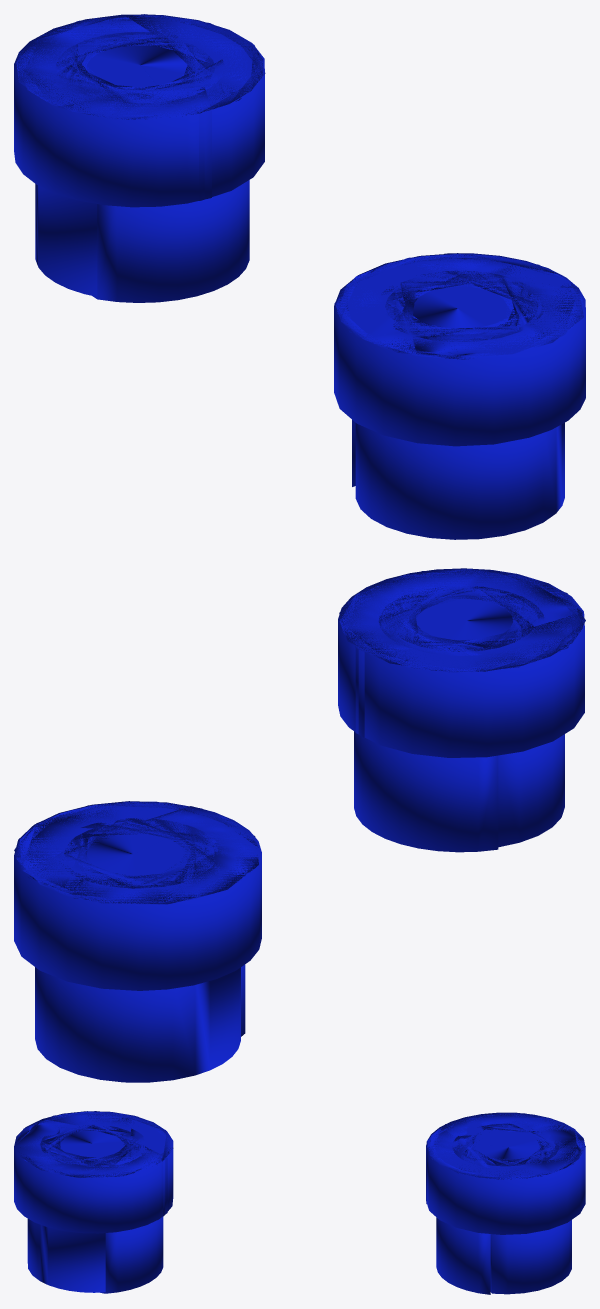
Rendered from tuyeau_element_000056.obj.
The picture shows the model from 3 angles, top to bottom: view 1: azimuth 30°, elevation 25°; view 2: azimuth 150°, elevation 25°; view 3: azimuth 270°, elevation 25°; orthographic projection. The views are drawn at different scales.
Visible parts, largest first — view 1: tuyeau1_Cube.014, tuyeau2_Cube.017; view 2: tuyeau2_Cube.017, tuyeau1_Cube.014; view 3: tuyeau2_Cube.017, tuyeau1_Cube.014.
Part boxes in pixels (<box>): tuyeau1_Cube.014: <box>14,14,265,302</box>; tuyeau2_Cube.017: <box>334,253,585,539</box>; tuyeau2_Cube.017: <box>338,568,585,852</box>; tuyeau1_Cube.014: <box>14,801,261,1082</box>; tuyeau2_Cube.017: <box>14,1111,173,1293</box>; tuyeau1_Cube.014: <box>426,1112,585,1294</box>.
Size of the model in its own units: 3602 by 2917 by 12609.
